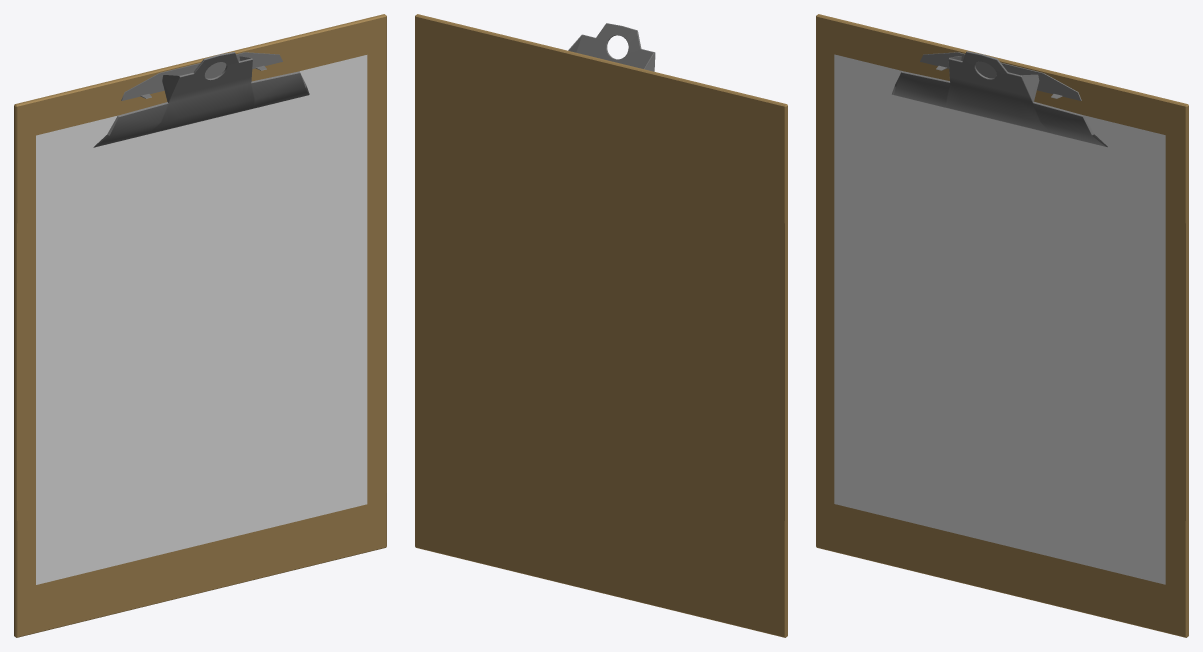
File: Copy of clipboard.fbx
The picture shows the model from 3 angles, left to right: view 1: azimuth 30°, elevation 25°; view 2: azimuth 150°, elevation 25°; view 3: azimuth 330°, elevation 25°; orthographic projection.
Visible parts, largest first — view 1: paper, clipboard1, clip; view 2: clipboard1, clip; view 3: paper, clipboard1, clip.
Part boxes in pixels (left/top/right/bottom): paper: left=36, top=55, right=367, bottom=584; clipboard1: left=14, top=14, right=386, bottom=637; clip: left=93, top=52, right=309, bottom=147; clipboard1: left=415, top=14, right=787, bottom=637; clip: left=568, top=23, right=655, bottom=71; paper: left=834, top=54, right=1165, bottom=584; clipboard1: left=816, top=14, right=1188, bottom=637; clip: left=892, top=51, right=1107, bottom=147.
Size of the model in its own units: 4 by 5.68 by 0.4025.
